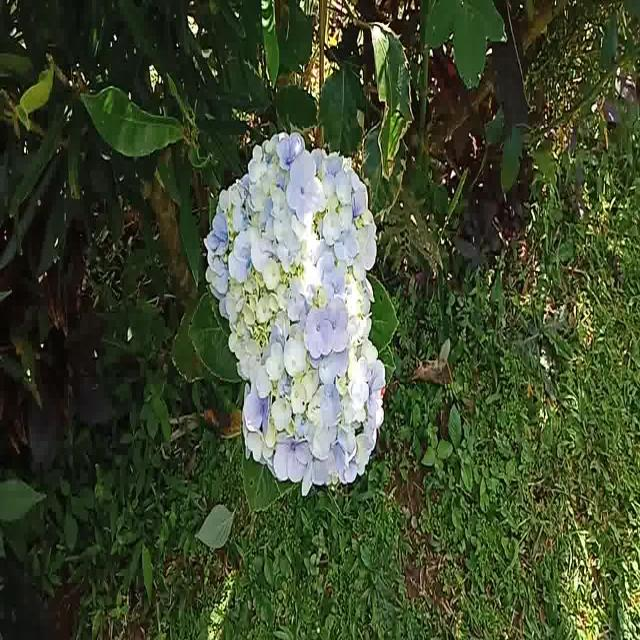Flower: (199, 126, 387, 501)
